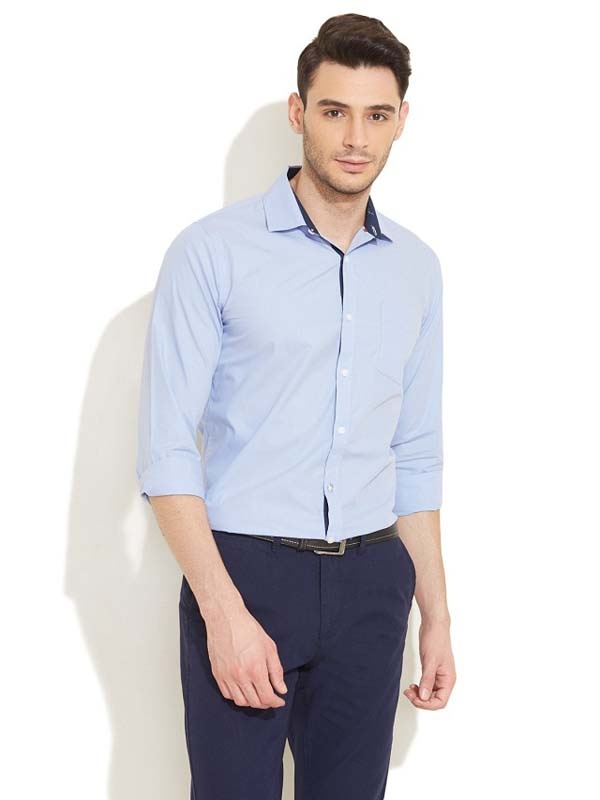F_belt: (231, 510, 414, 567)
F_dress pants: (179, 527, 407, 800)
F_shirt: (144, 150, 449, 541)
